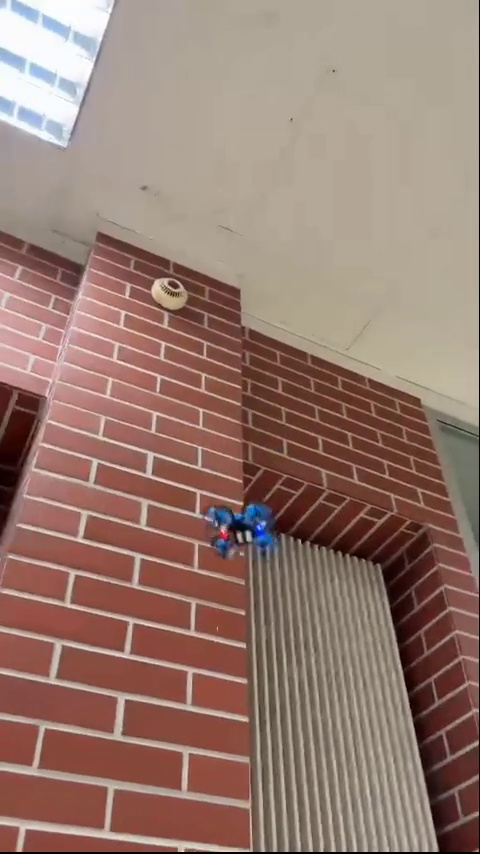drone: (204, 502, 272, 553)
